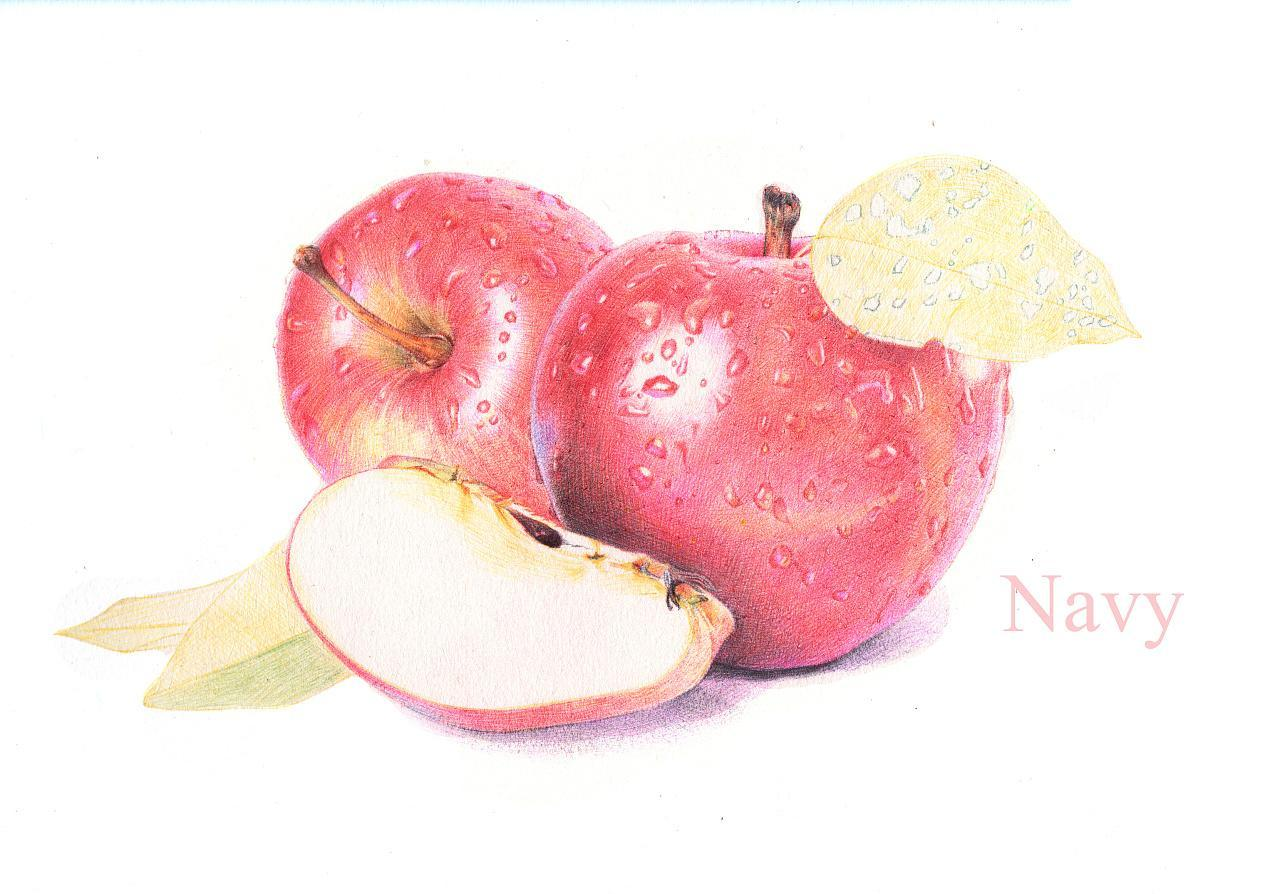apple: (527, 226, 1015, 675), (268, 161, 619, 526)
